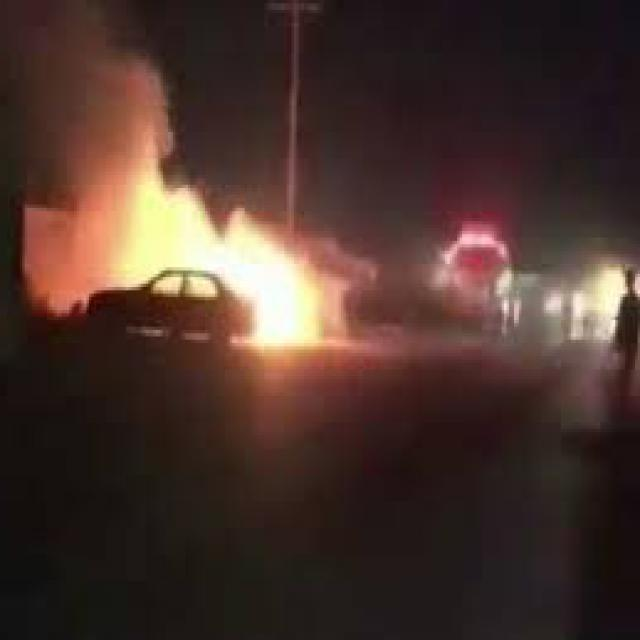Fire: (160, 205, 325, 360)
Smoke: (12, 0, 168, 253)
